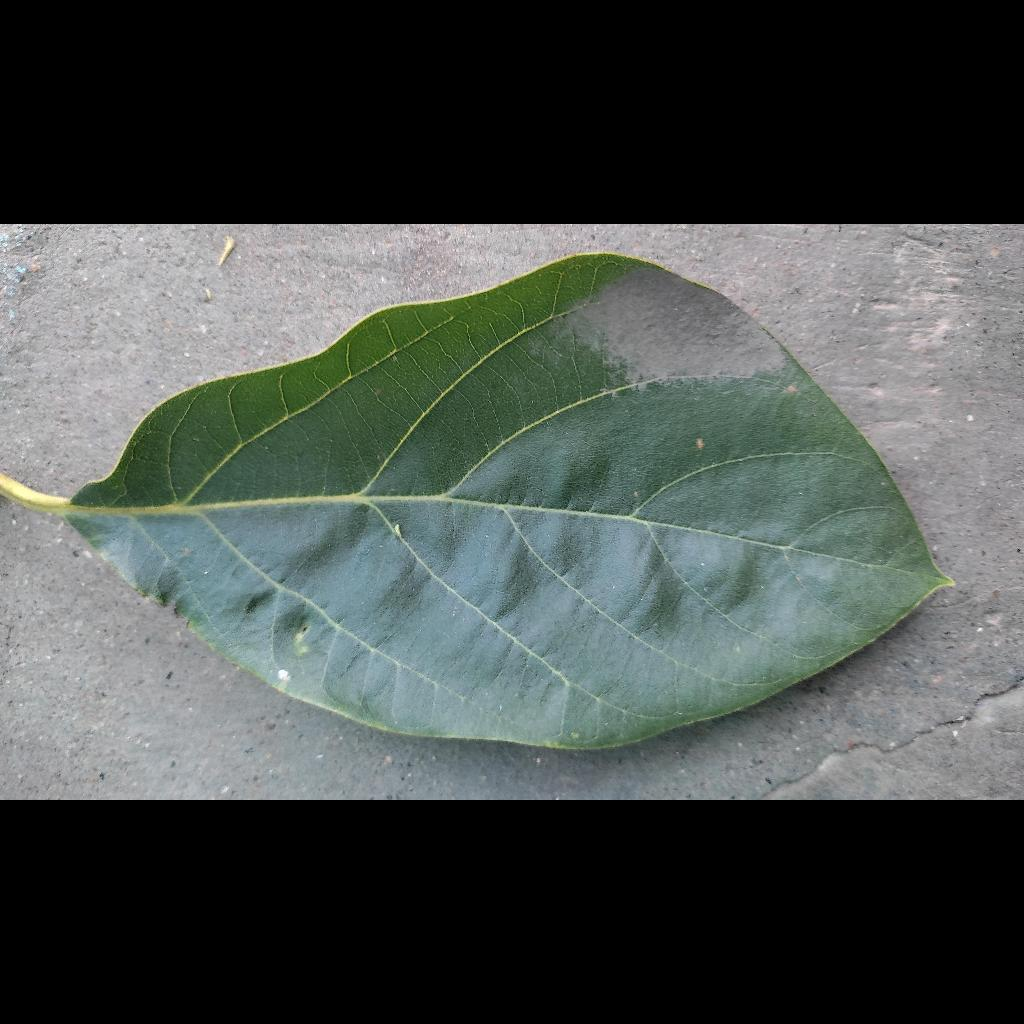powdery_mildew: (262, 655, 308, 693)
